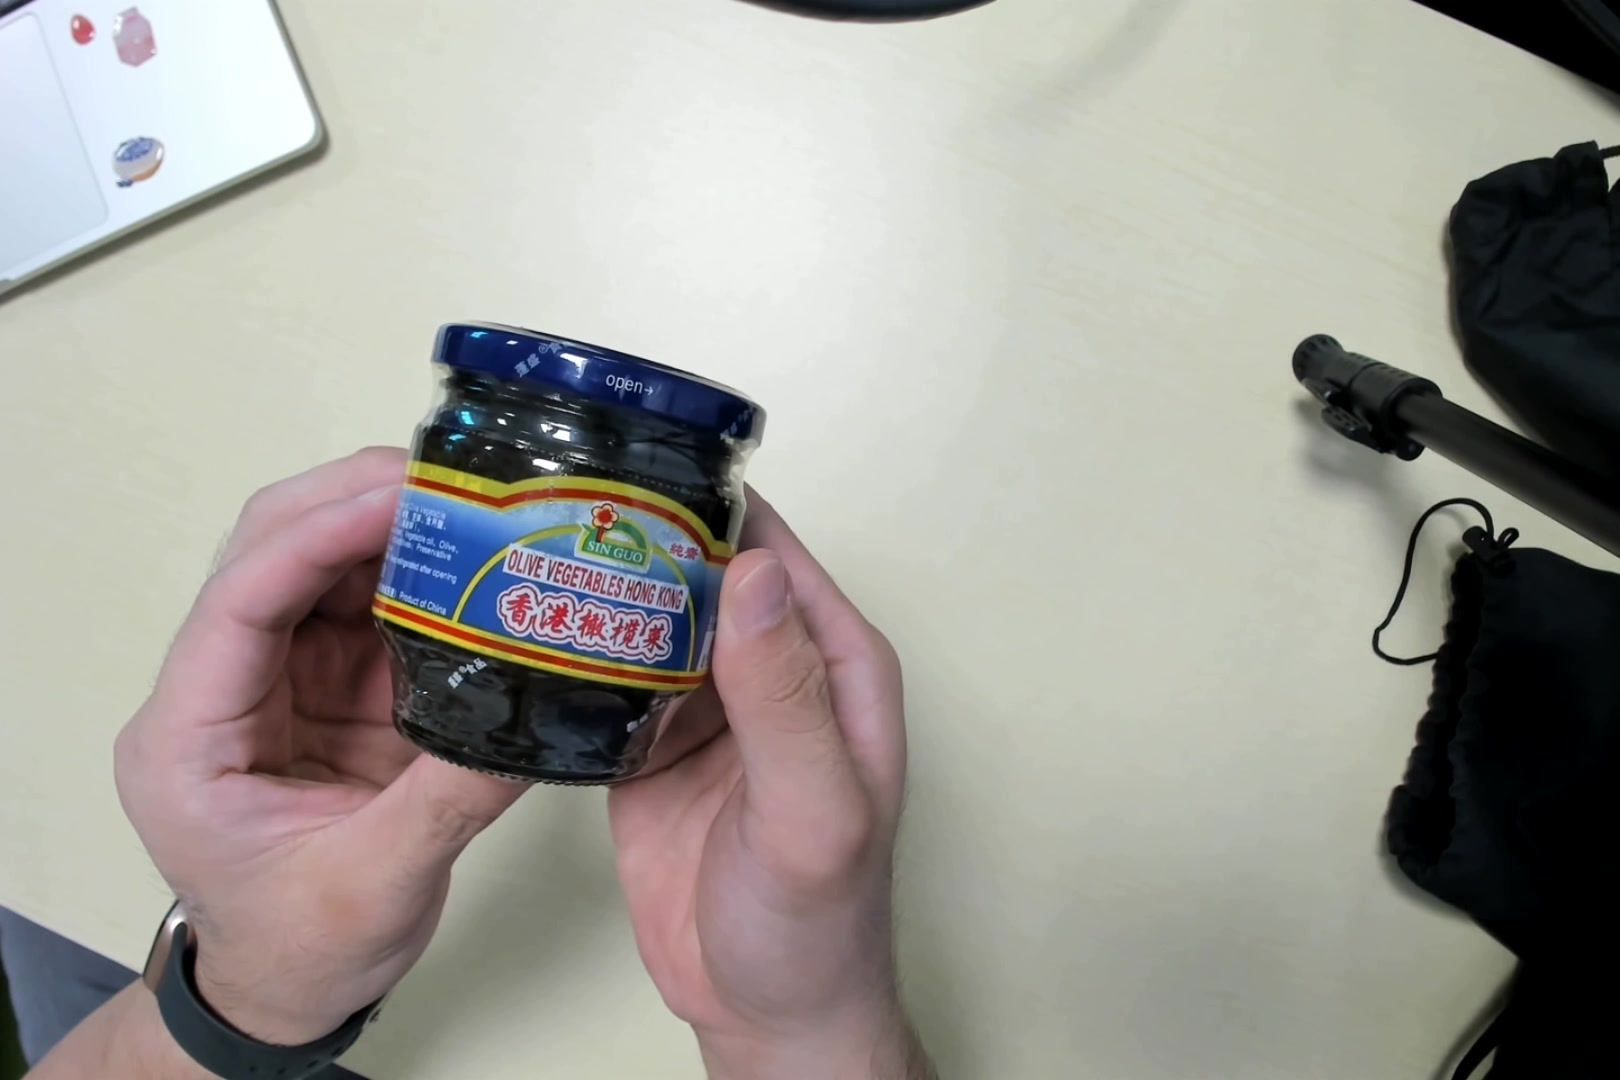OtherCannedVegetables_100-199g_Halal_NonHealthy: (383, 318, 749, 793)
